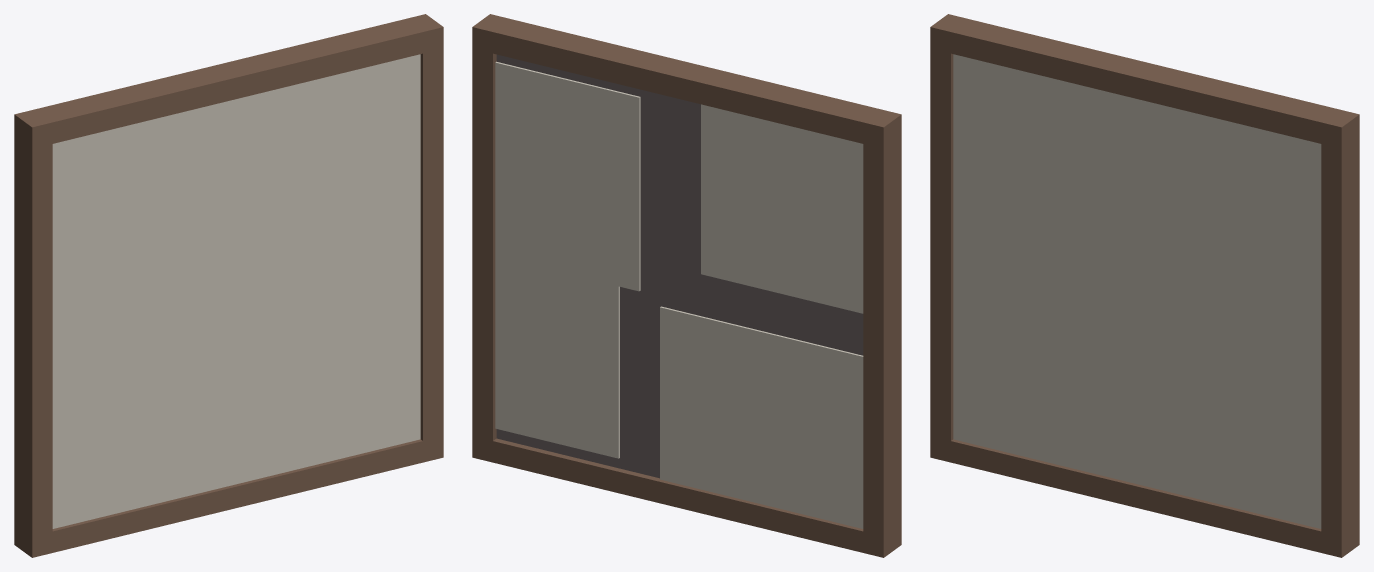
Rendered from haunted_wall_plasterbroken.glb.
3 renders of one model, left to right at view 1: azimuth 30°, elevation 25°; view 2: azimuth 150°, elevation 25°; view 3: azimuth 330°, elevation 25°, orthographic.
Visible parts, largest first — view 1: Haunted_Wall_PlasterBroken; view 2: Haunted_Wall_PlasterBroken; view 3: Haunted_Wall_PlasterBroken.
Boxes of the visible parts, box(x1,y1,x2,y2) form: Haunted_Wall_PlasterBroken: box(14, 14, 443, 557); Haunted_Wall_PlasterBroken: box(472, 14, 901, 557); Haunted_Wall_PlasterBroken: box(930, 14, 1359, 557).
Bounding box in the file's own units: 4 × 4 × 0.3.
